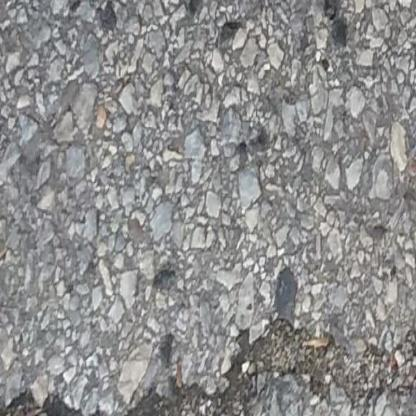Cracks: (0, 318, 416, 416)
